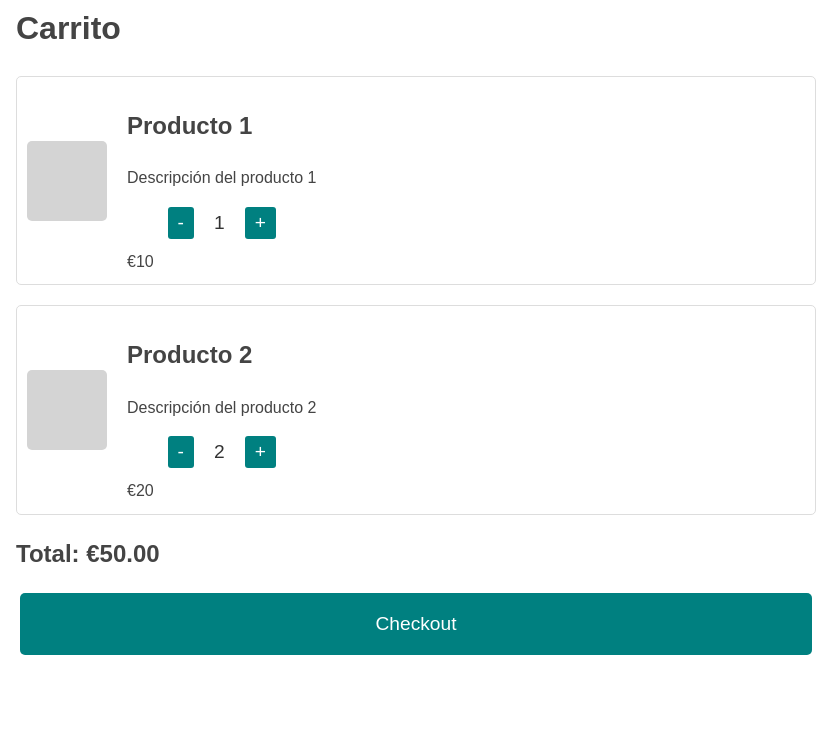
Test: CartPage › debería mostrar un mensaje de error si falla el proceso de checkout
Click the button "Checkout".
click(416, 624)  # box x1=20 y1=593 x2=812 y2=655
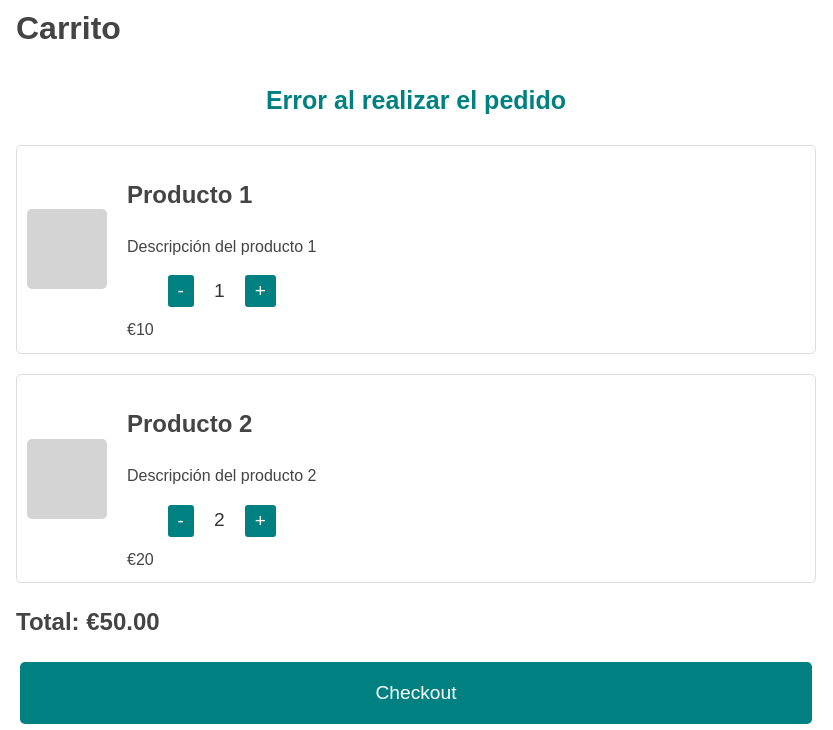
Check: the text "Error al realizar el pedido" is shown, box x1=266 y1=86 x2=566 y2=114
